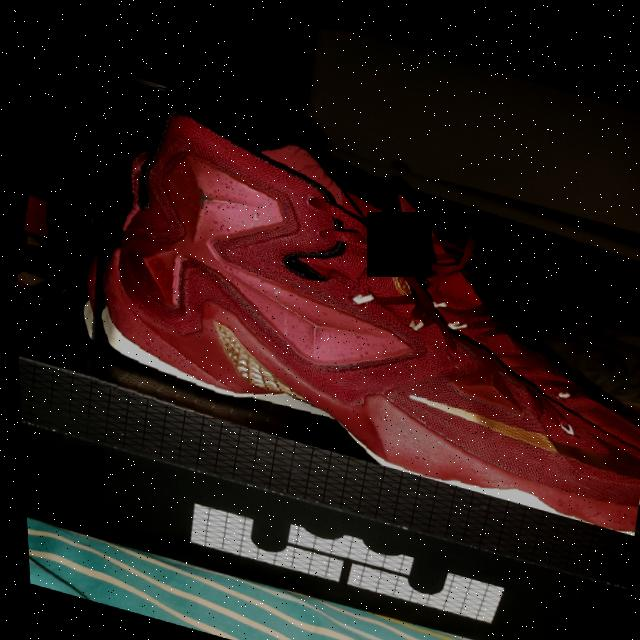shoe: (48, 64, 640, 527)
